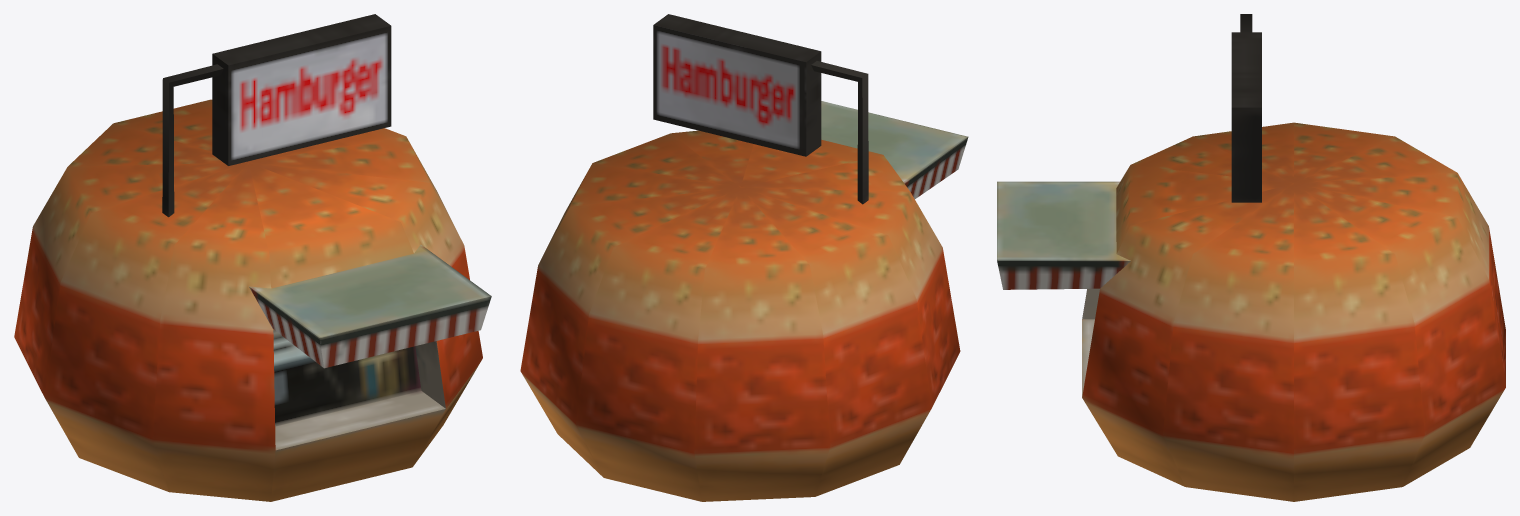
File: building.FBX
3 renders of one model, left to right at view 1: azimuth 30°, elevation 25°; view 2: azimuth 150°, elevation 25°; view 3: azimuth 270°, elevation 25°, orthographic. The views are drawn at different scales.
Parts seen in each view (by area): view 1: Hamburger; view 2: Hamburger; view 3: Hamburger.
Part boxes in pixels (x1=…): Hamburger: x1=14, y1=14, x2=491, y2=501; Hamburger: x1=520, y1=14, x2=968, y2=501; Hamburger: x1=997, y1=14, x2=1505, y2=501.
Bounding box in the file's own units: 447 × 406 × 510.
